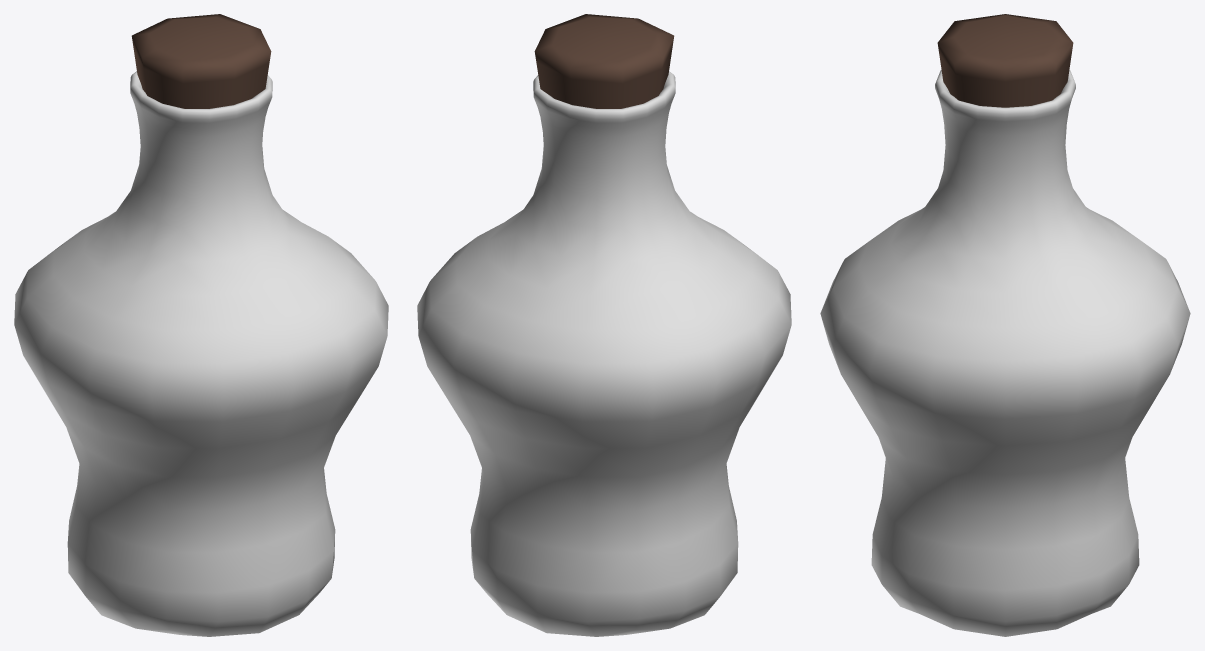
Rendered from Potion3_Empty.glb.
3 views of the same model, side by side, from view 1: azimuth 30°, elevation 25°; view 2: azimuth 150°, elevation 25°; view 3: azimuth 270°, elevation 25° (orthographic).
Visible parts, largest first — view 1: Potion3_Empty; view 2: Potion3_Empty; view 3: Potion3_Empty.
Part boxes in pixels (left/top/right/bottom): Potion3_Empty: left=14, top=14, right=388, bottom=636; Potion3_Empty: left=417, top=14, right=791, bottom=636; Potion3_Empty: left=820, top=14, right=1190, bottom=636.
Bounding box in the file's own units: 0.7187 × 1.22 × 0.7187.
